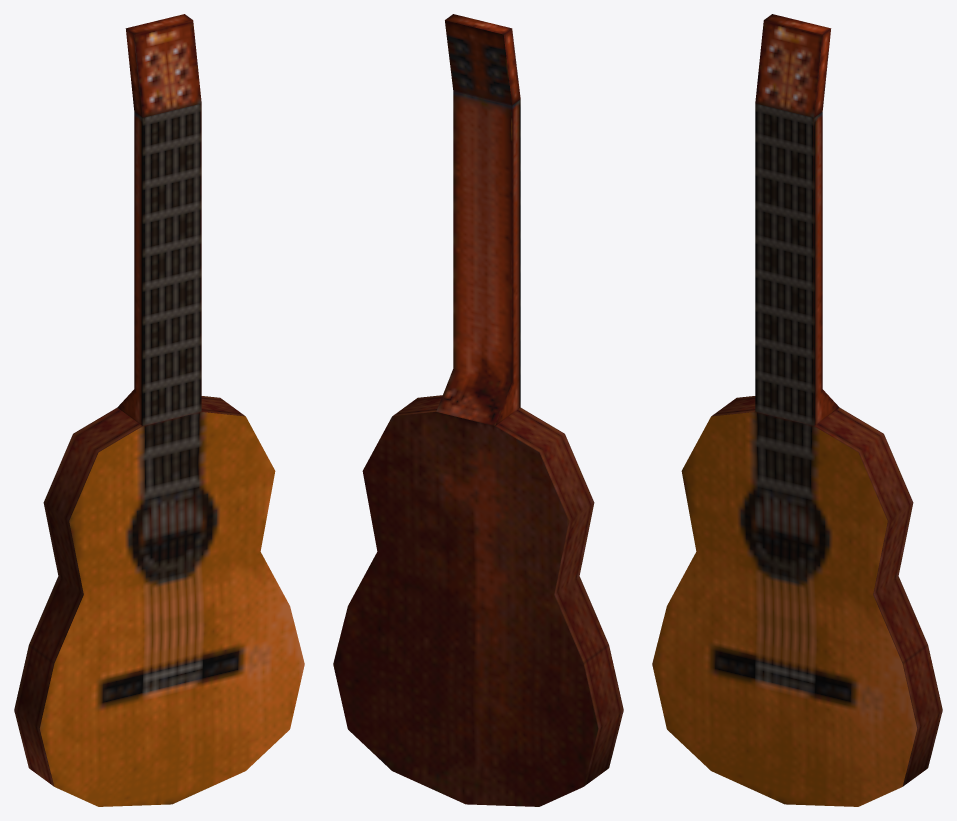
Rendered from Guitar.fbx.
3 views of the same model, side by side, from view 1: azimuth 30°, elevation 25°; view 2: azimuth 150°, elevation 25°; view 3: azimuth 330°, elevation 25° (orthographic).
Visible parts, largest first — view 1: Acoustic Guitar_Material.001_0; view 2: Acoustic Guitar_Material.001_0; view 3: Acoustic Guitar_Material.001_0.
Part boxes in pixels (x1,y1,x2,y2): Acoustic Guitar_Material.001_0: (14,14,304,806); Acoustic Guitar_Material.001_0: (333,14,623,806); Acoustic Guitar_Material.001_0: (652,14,942,806).
Bounding box in the file's own units: 81.06 × 225 × 13.51.
Materials: 1 (1 with a texture image).
